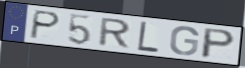5: (67, 13, 94, 46)
G: (168, 25, 201, 57)
L: (136, 20, 160, 54)
P: (199, 27, 237, 60), (28, 9, 63, 40)
R: (97, 17, 134, 50)
